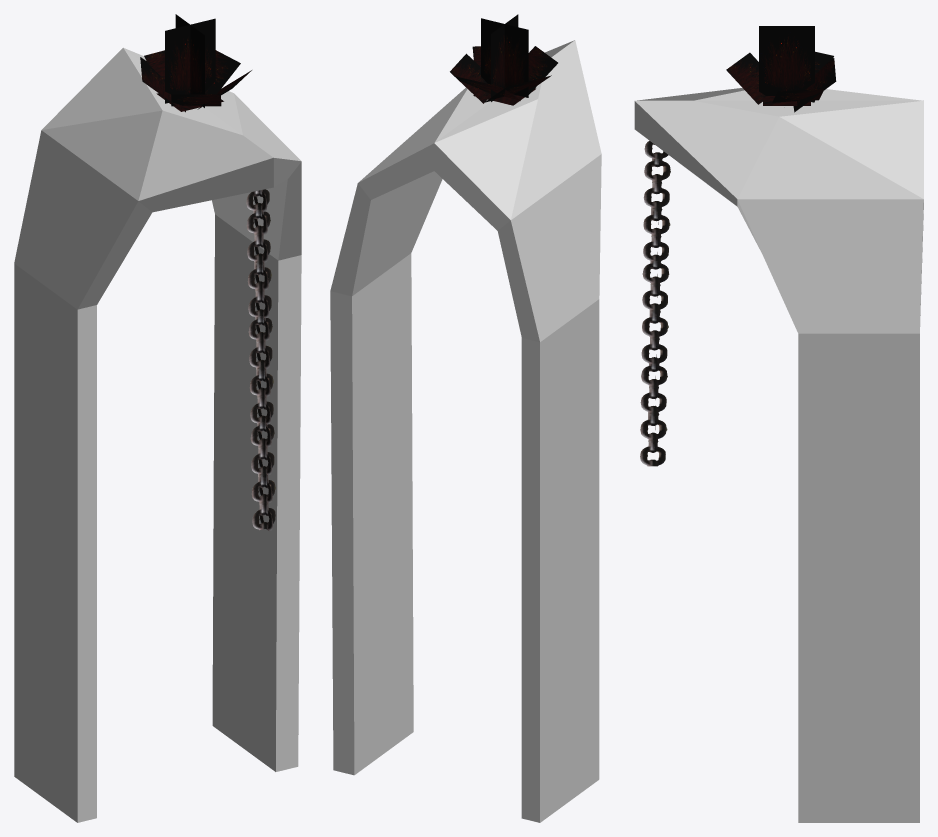
Rendered from GateOuterPiece_Small.fbx.
3 renders of one model, left to right at view 1: azimuth 30°, elevation 25°; view 2: azimuth 150°, elevation 25°; view 3: azimuth 270°, elevation 25°, orthographic. The views are drawn at different scales.
Parts seen in each view (by area): view 1: Plane.001; view 2: Plane.001; view 3: Plane.001.
Part boxes in pixels (<box>): Plane.001: <box>14,14,301,822</box>; Plane.001: <box>330,14,601,822</box>; Plane.001: <box>634,26,923,822</box>.
Size of the model in its own units: 47.18 by 156 by 55.76.
